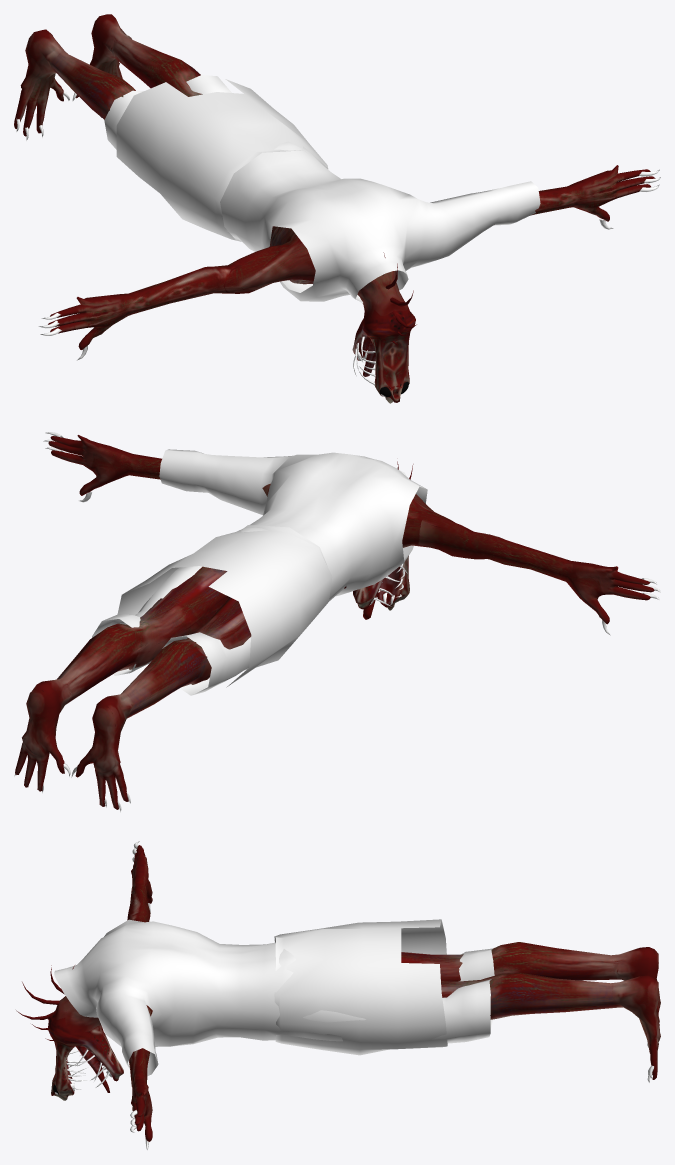
Rendered from Male.fbx.
The picture shows the model from 3 angles, top to bottom: view 1: azimuth 30°, elevation 25°; view 2: azimuth 150°, elevation 25°; view 3: azimuth 270°, elevation 25°; orthographic projection. The views are drawn at different scales.
Parts seen in each view (by area): view 1: MAIL, _939LPBoady_001_0, MAIL_002, Tooth_Claw; view 2: _939LPBoady_001_0, MAIL, MAIL_002, Tooth_Claw; view 3: MAIL, _939LPBoady_001_0, MAIL_002, Tooth_Claw.
Part boxes in pixels (box(x1,y1,x2,y2)): MAIL: box(104, 75, 540, 302); _939LPBoady_001_0: box(14, 14, 655, 403); MAIL_002: box(116, 79, 328, 241); Tooth_Claw: box(16, 91, 660, 385); _939LPBoady_001_0: box(15, 435, 654, 809); MAIL: box(92, 449, 427, 695); MAIL_002: box(117, 525, 332, 687); Tooth_Claw: box(14, 432, 660, 812); MAIL: box(54, 919, 494, 1076); _939LPBoady_001_0: box(47, 845, 660, 1141); MAIL_002: box(274, 919, 447, 1055); Tooth_Claw: box(66, 841, 653, 1149).
Bounding box in the file's own units: 18.91 × 5.17 × 18.48.
